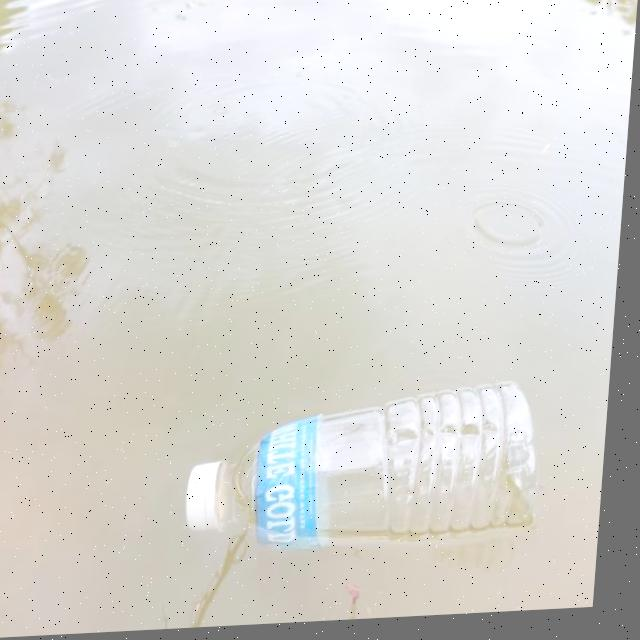waterbottle: (182, 350, 560, 570)
